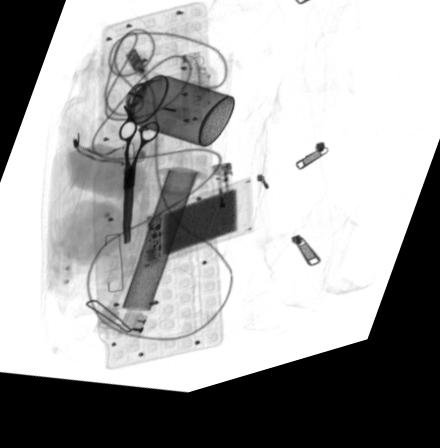Lighter: (210, 174, 235, 226)
Powerbank: (130, 189, 257, 282)
Scissors: (116, 112, 163, 253)
Sprayer: (107, 74, 236, 159)
